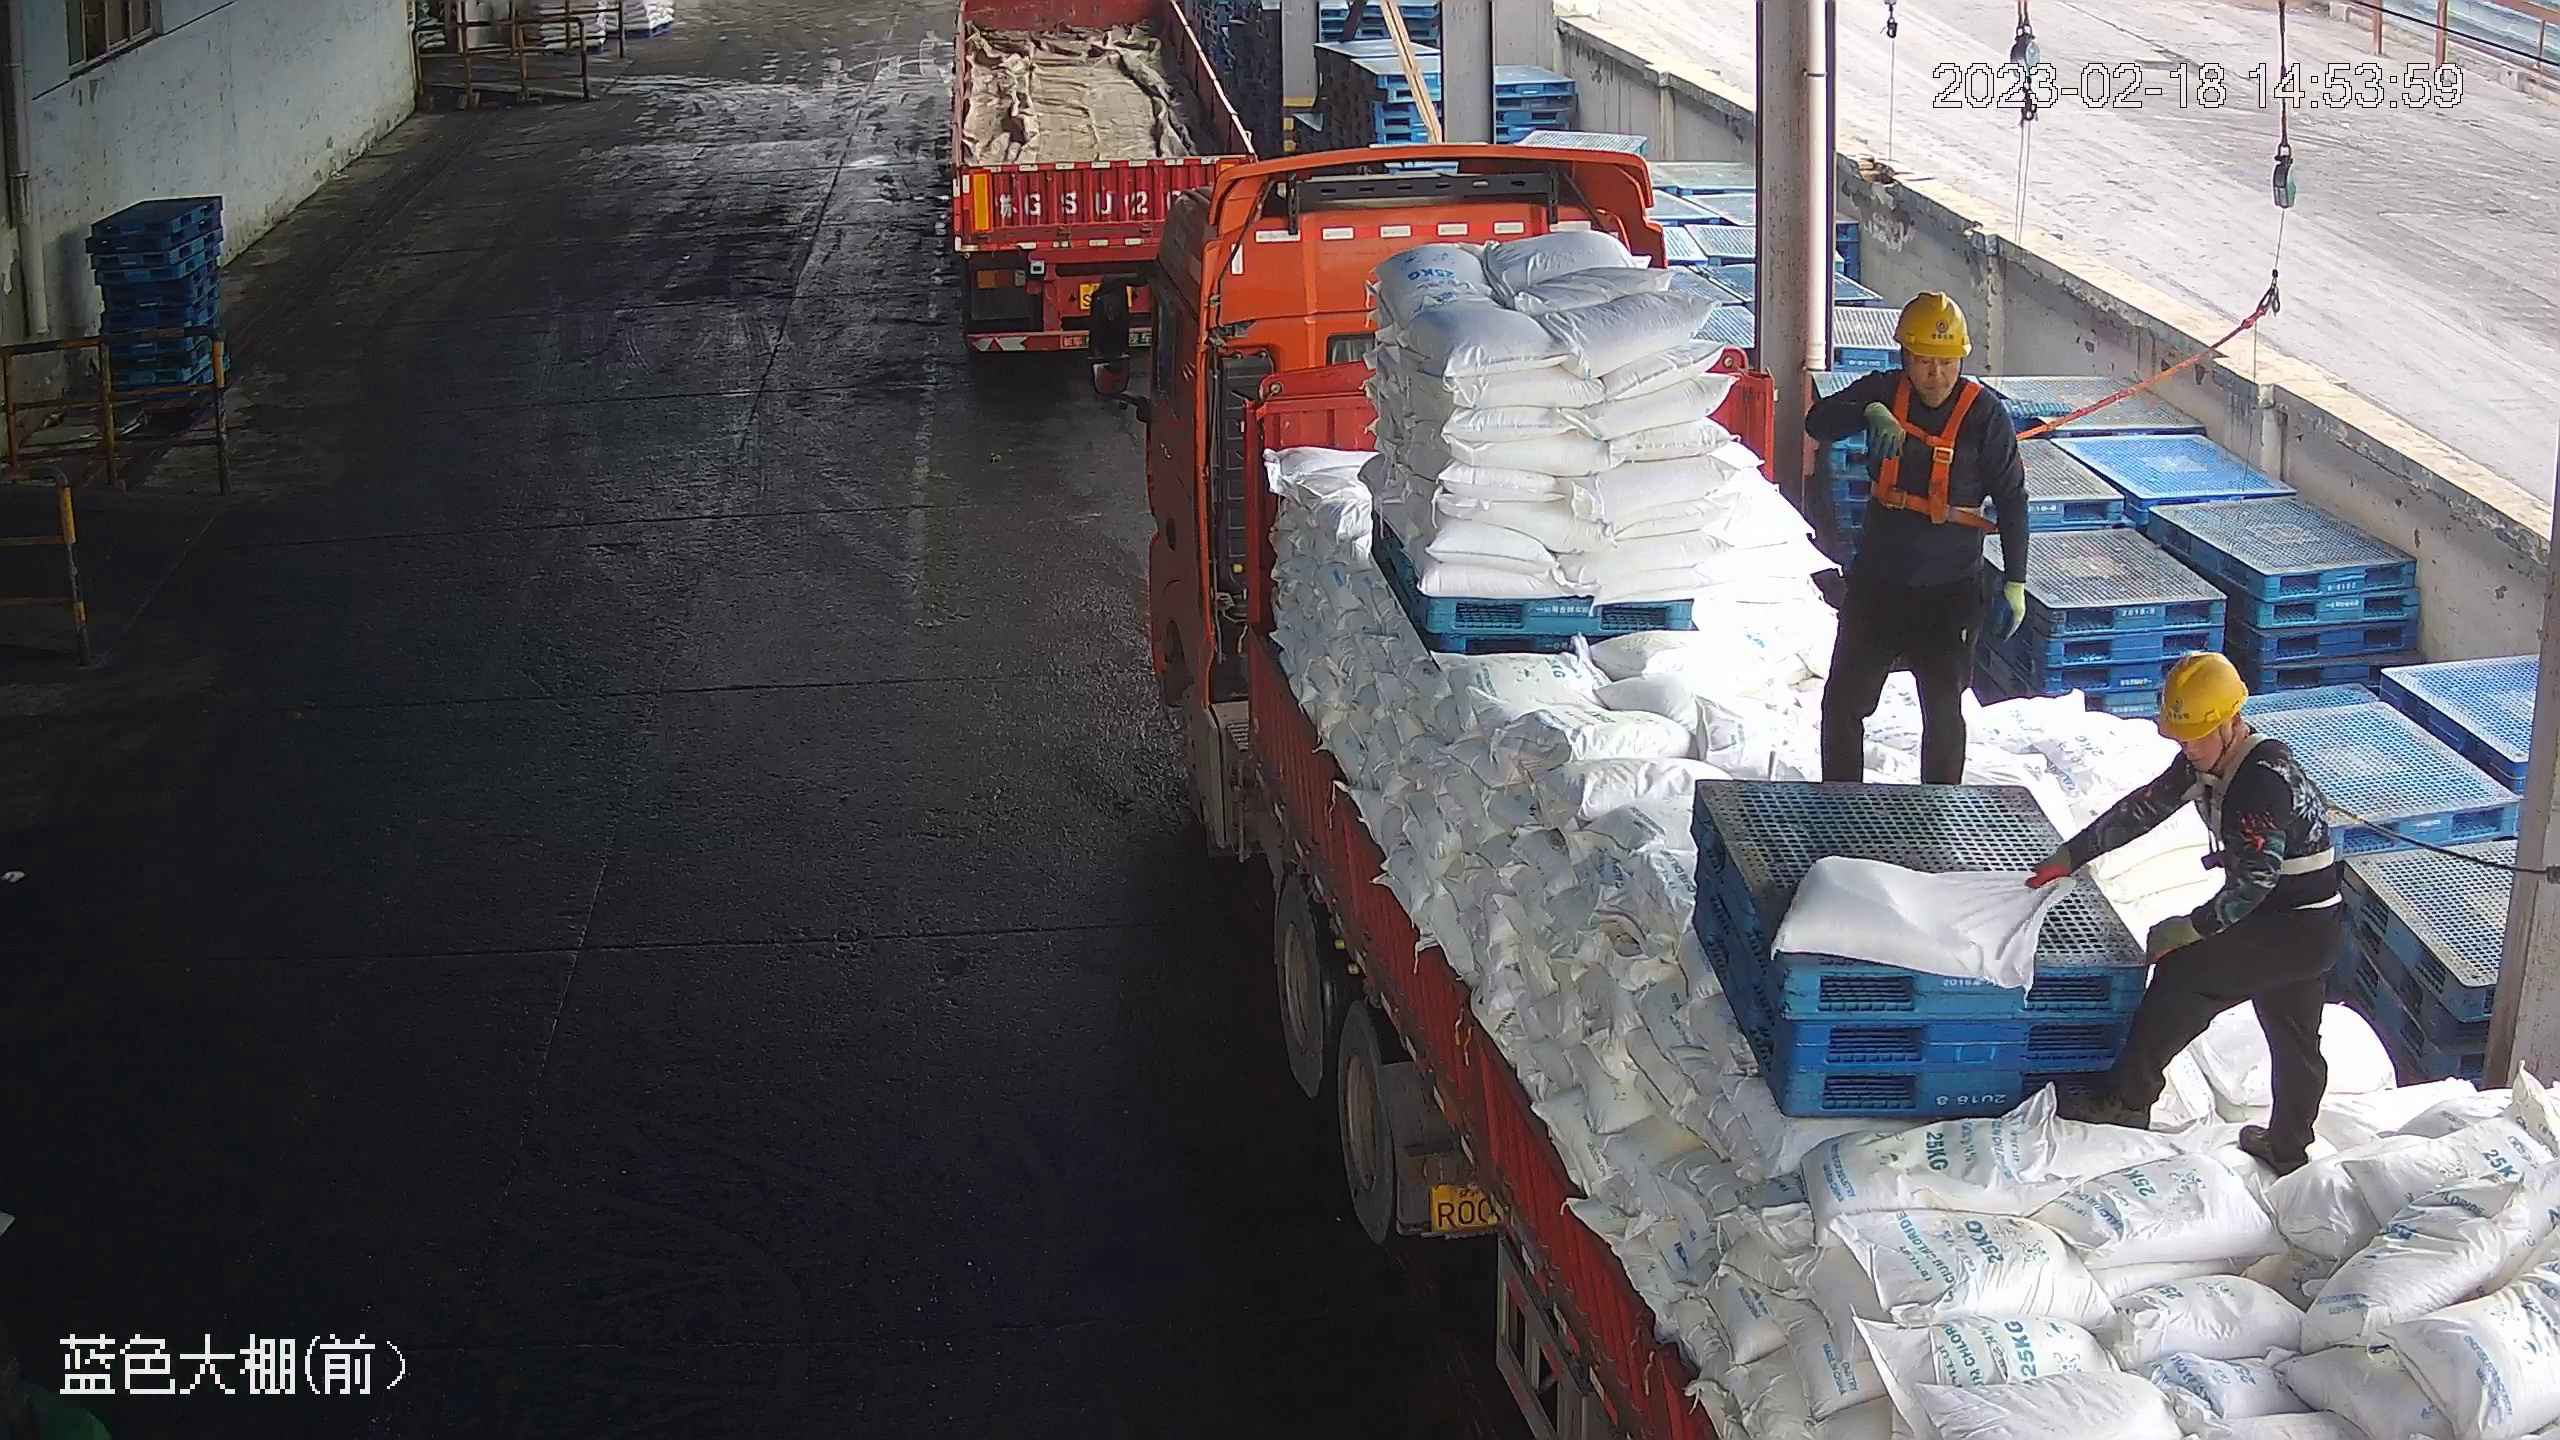belt: (2221, 743, 2351, 899), (1867, 376, 1992, 525)
head: (2150, 649, 2313, 818), (1854, 286, 2011, 443)
helmet: (2152, 648, 2249, 741), (1894, 286, 1972, 356)
people: (2021, 649, 2345, 1174), (1790, 286, 2032, 783)
truck: (1059, 144, 2547, 1437), (925, 3, 1272, 379)
